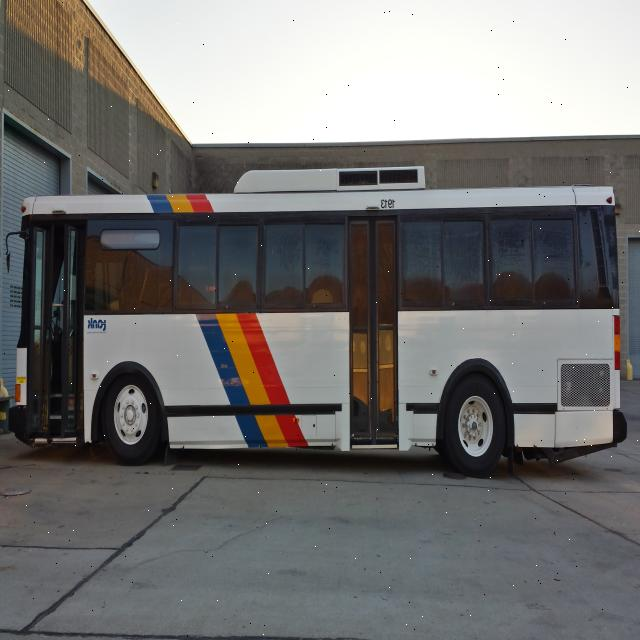Bus: (9, 166, 626, 470)
